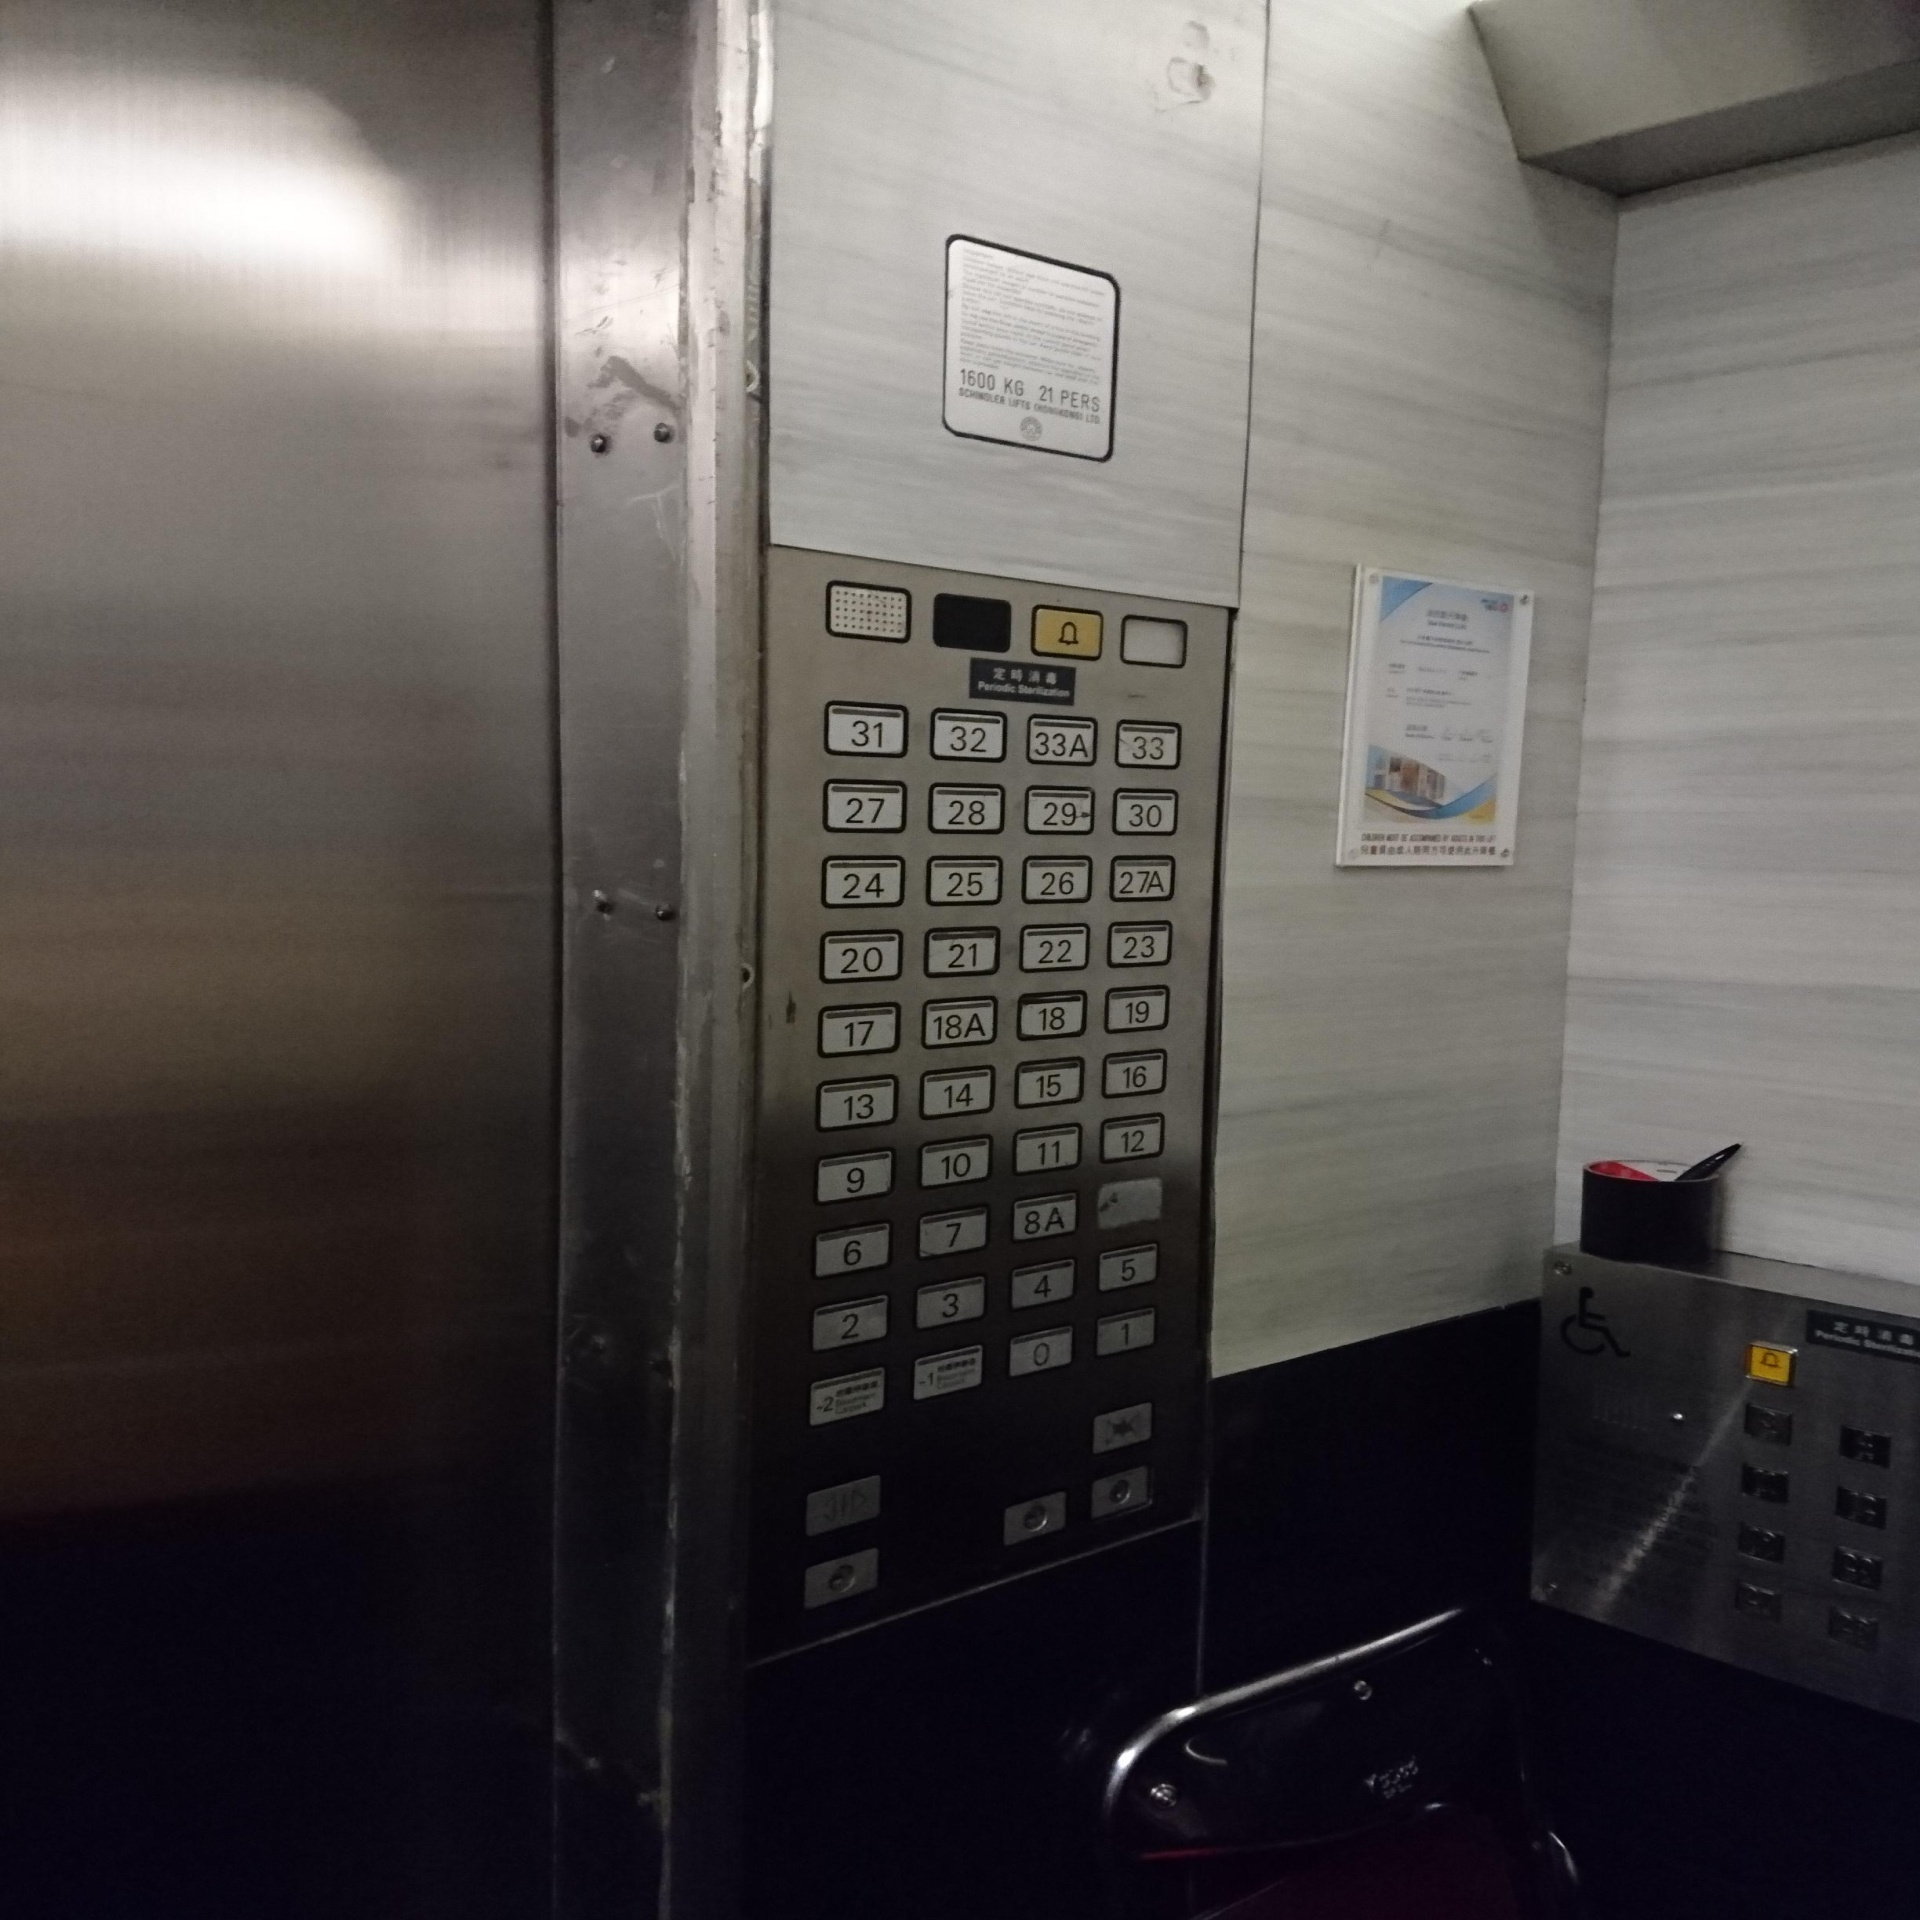-1: (907, 1340, 988, 1407)
-2: (804, 1363, 890, 1431)
0: (1002, 1320, 1078, 1380)
1: (1092, 1303, 1162, 1361)
10: (916, 1132, 993, 1190)
11: (1009, 1122, 1083, 1176)
12: (1099, 1111, 1167, 1164)
13: (814, 1073, 898, 1134)
14: (918, 1064, 999, 1122)
15: (1013, 1053, 1087, 1109)
16: (1101, 1046, 1167, 1099)
17: (816, 999, 902, 1058)
18: (1015, 988, 1088, 1043)
18A: (920, 993, 999, 1050)
19: (1104, 983, 1171, 1036)
2: (807, 1291, 891, 1356)
20: (818, 927, 904, 985)
21: (921, 925, 1002, 979)
22: (1018, 921, 1092, 972)
23: (1104, 920, 1173, 971)
24: (821, 853, 907, 911)
25: (925, 853, 1004, 907)
26: (1022, 855, 1094, 905)
27: (821, 775, 909, 835), (1730, 1575, 1779, 1625)
27A: (1109, 855, 1176, 904)
28: (927, 781, 1007, 835)
29: (1023, 782, 1095, 835)
3: (911, 1271, 992, 1333)
30: (1111, 786, 1180, 837)
31: (823, 700, 911, 760)
32: (928, 705, 1007, 765)
33: (1115, 717, 1182, 770)
33A: (1027, 712, 1099, 768)
4: (1006, 1254, 1080, 1313), (1837, 1422, 1894, 1472)
5: (1095, 1240, 1162, 1296)
6: (811, 1218, 893, 1280)
7: (914, 1203, 992, 1261)
8A: (1007, 1187, 1081, 1245)
9: (812, 1145, 897, 1206)
alarm: (1030, 605, 1104, 661), (1744, 1342, 1799, 1389)
blur: (1094, 1175, 1166, 1229), (1829, 1540, 1887, 1595), (1827, 1605, 1881, 1655), (1742, 1400, 1795, 1449), (1834, 1482, 1888, 1530), (1737, 1461, 1792, 1507), (1737, 1521, 1788, 1568)
close: (1088, 1400, 1155, 1458)
empty: (934, 591, 1015, 654), (1118, 614, 1190, 672)
keyhole: (800, 1544, 883, 1612), (999, 1489, 1071, 1549), (1087, 1463, 1155, 1523)
open: (804, 1472, 883, 1538)
speaker: (823, 577, 913, 645)
